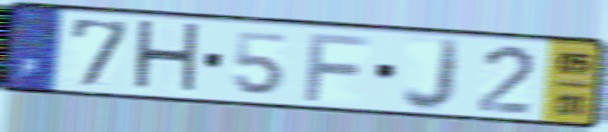2: (474, 42, 540, 118)
5: (228, 28, 290, 97)
7: (66, 17, 133, 89)
F: (301, 29, 375, 104)
H: (129, 16, 204, 98)
J: (398, 35, 465, 115)
